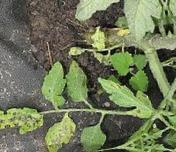Tomato Septoria leaf spot: (38, 109, 81, 152), (4, 100, 47, 135)
